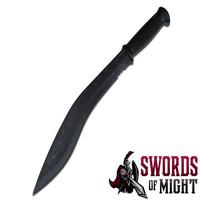knife: (31, 2, 174, 198)
